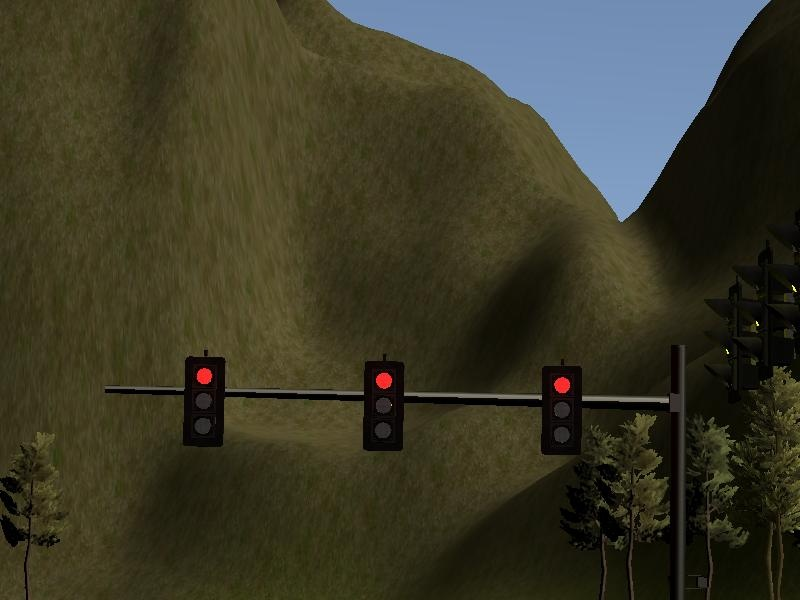RED: (181, 355, 226, 444), (361, 360, 406, 449), (538, 365, 583, 454)
